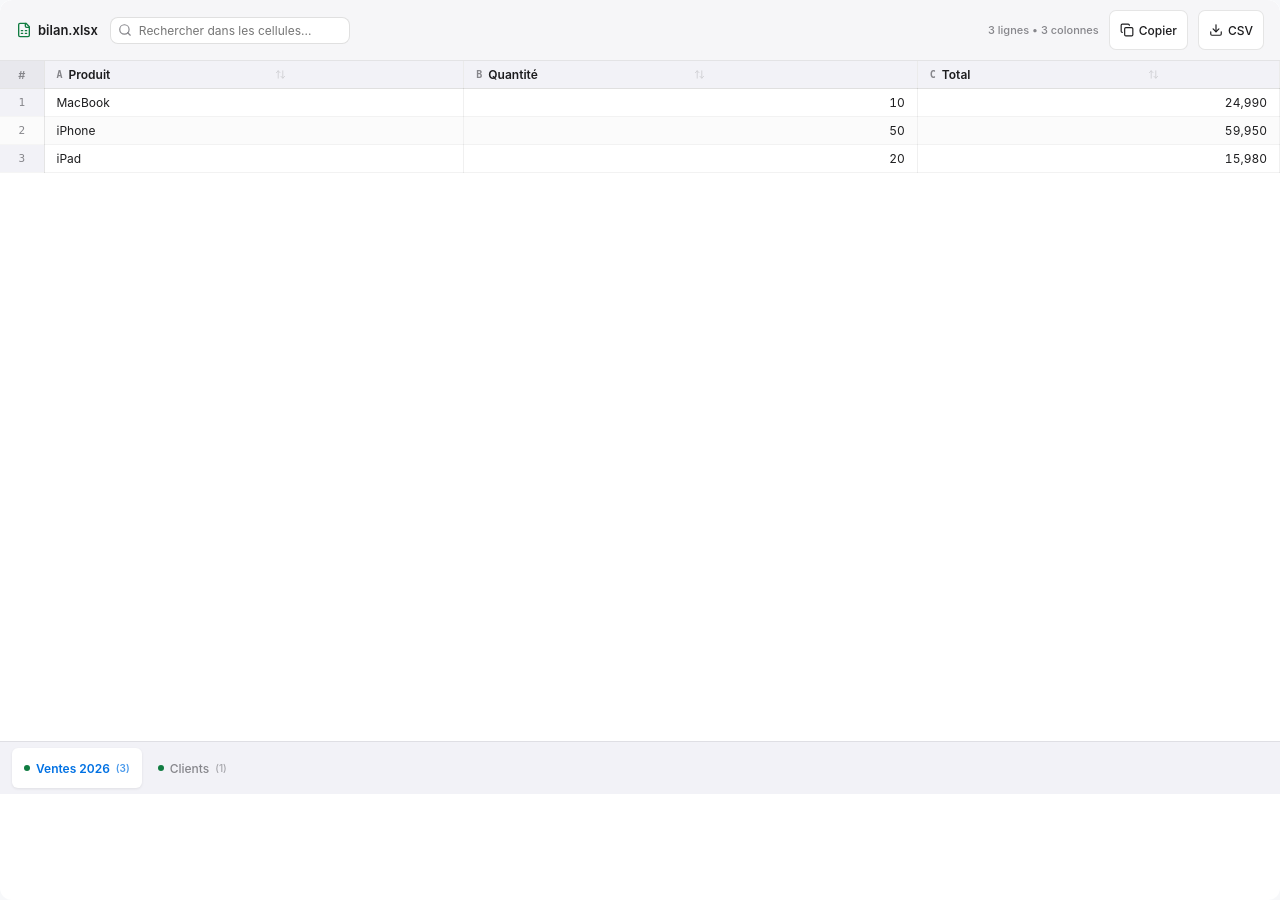
Document & File Visualizers › SpreadsheetViewer › renders headers, rows, and allows switching sheets
Expected: the text "bilan.xlsx" is shown, x1=38 y1=22 x2=98 y2=38
Expected: the text "Produit" is shown, x1=68 y1=67 x2=110 y2=82
Click the text "Clients". click: (190, 768)
box: x1=170 y1=760 x2=209 y2=776
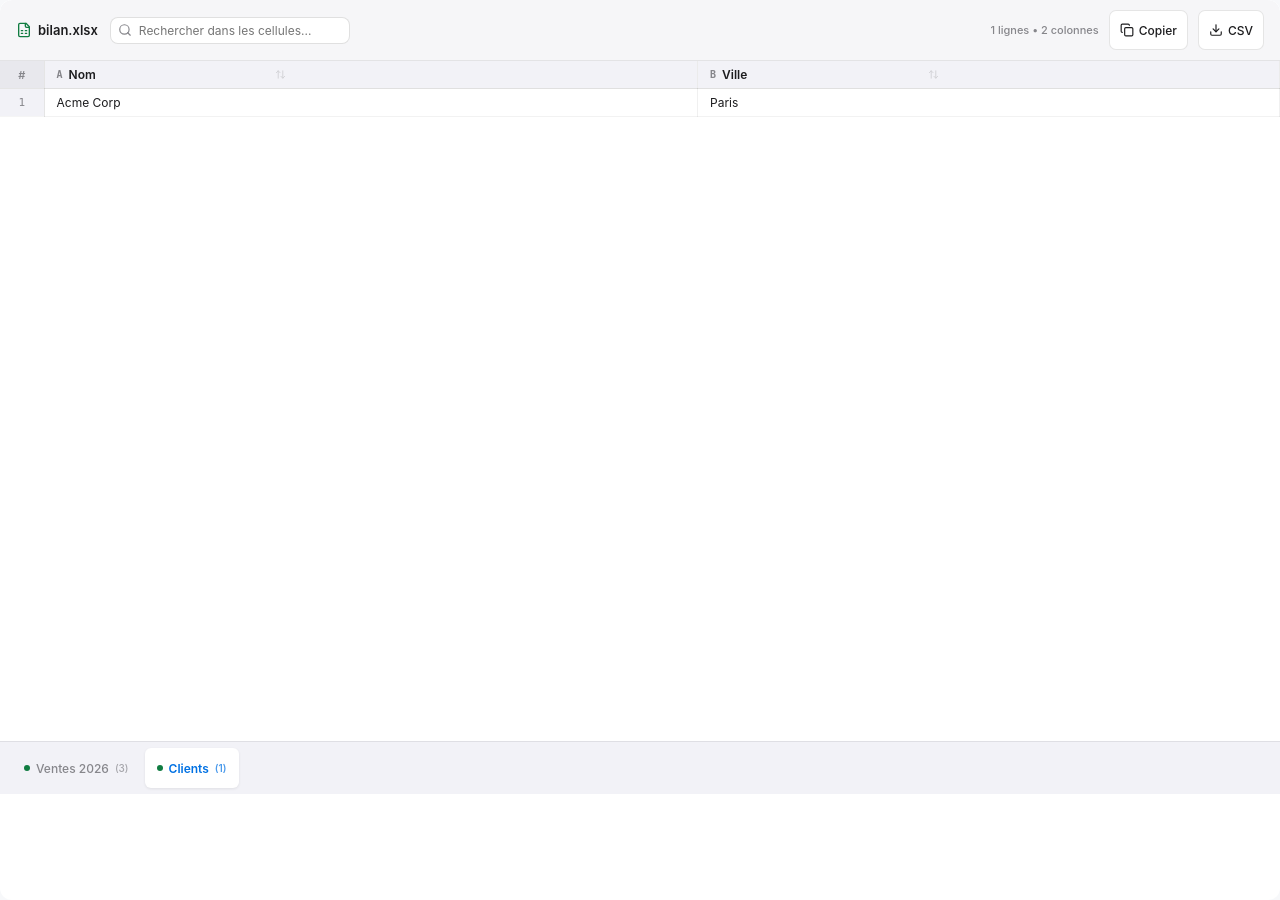
Expected: the text "Acme Corp" is shown, x1=44 y1=88 x2=698 y2=116
